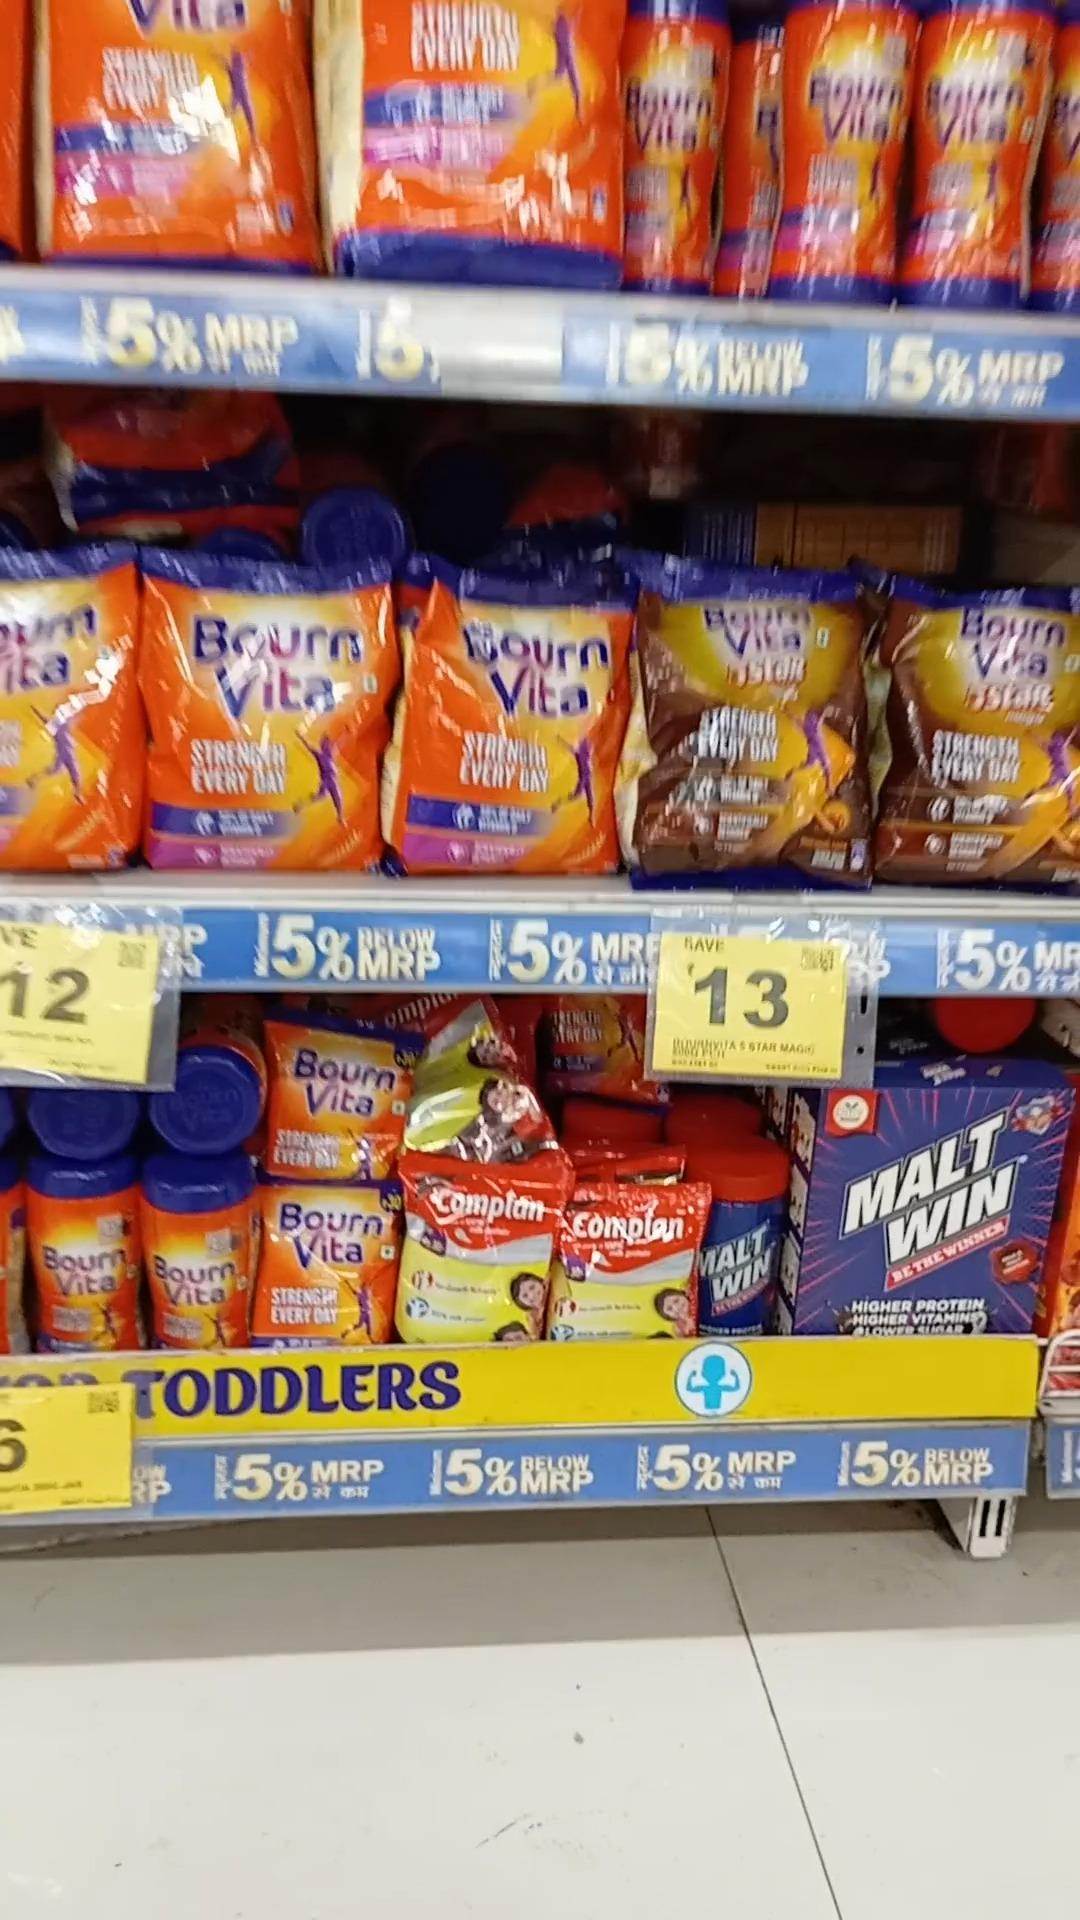BOURN_VITA_200_G_JAR: (33, 1163, 136, 1353), (145, 1167, 245, 1345)
BOURN_VITA_500_G_JAR: (781, 0, 895, 301), (924, 3, 1034, 310)
BOURN_VITA_500_G_POUCH: (140, 555, 373, 877), (400, 571, 611, 880)
BOURN_VITA_75_G_POUCH: (261, 1178, 393, 1349)
BOURN_VITA_FIVE_STAR_MAGIC_500_G_POUCH: (636, 572, 868, 895), (885, 575, 1080, 891)
